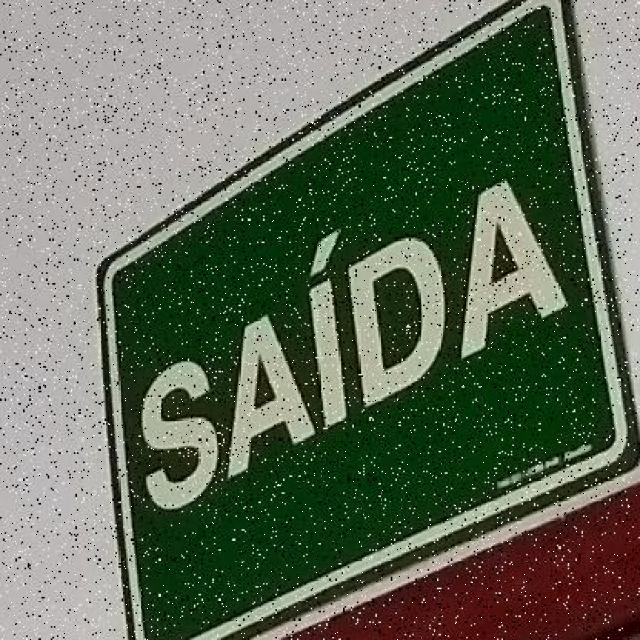emergency_exit: (95, 1, 638, 638)
